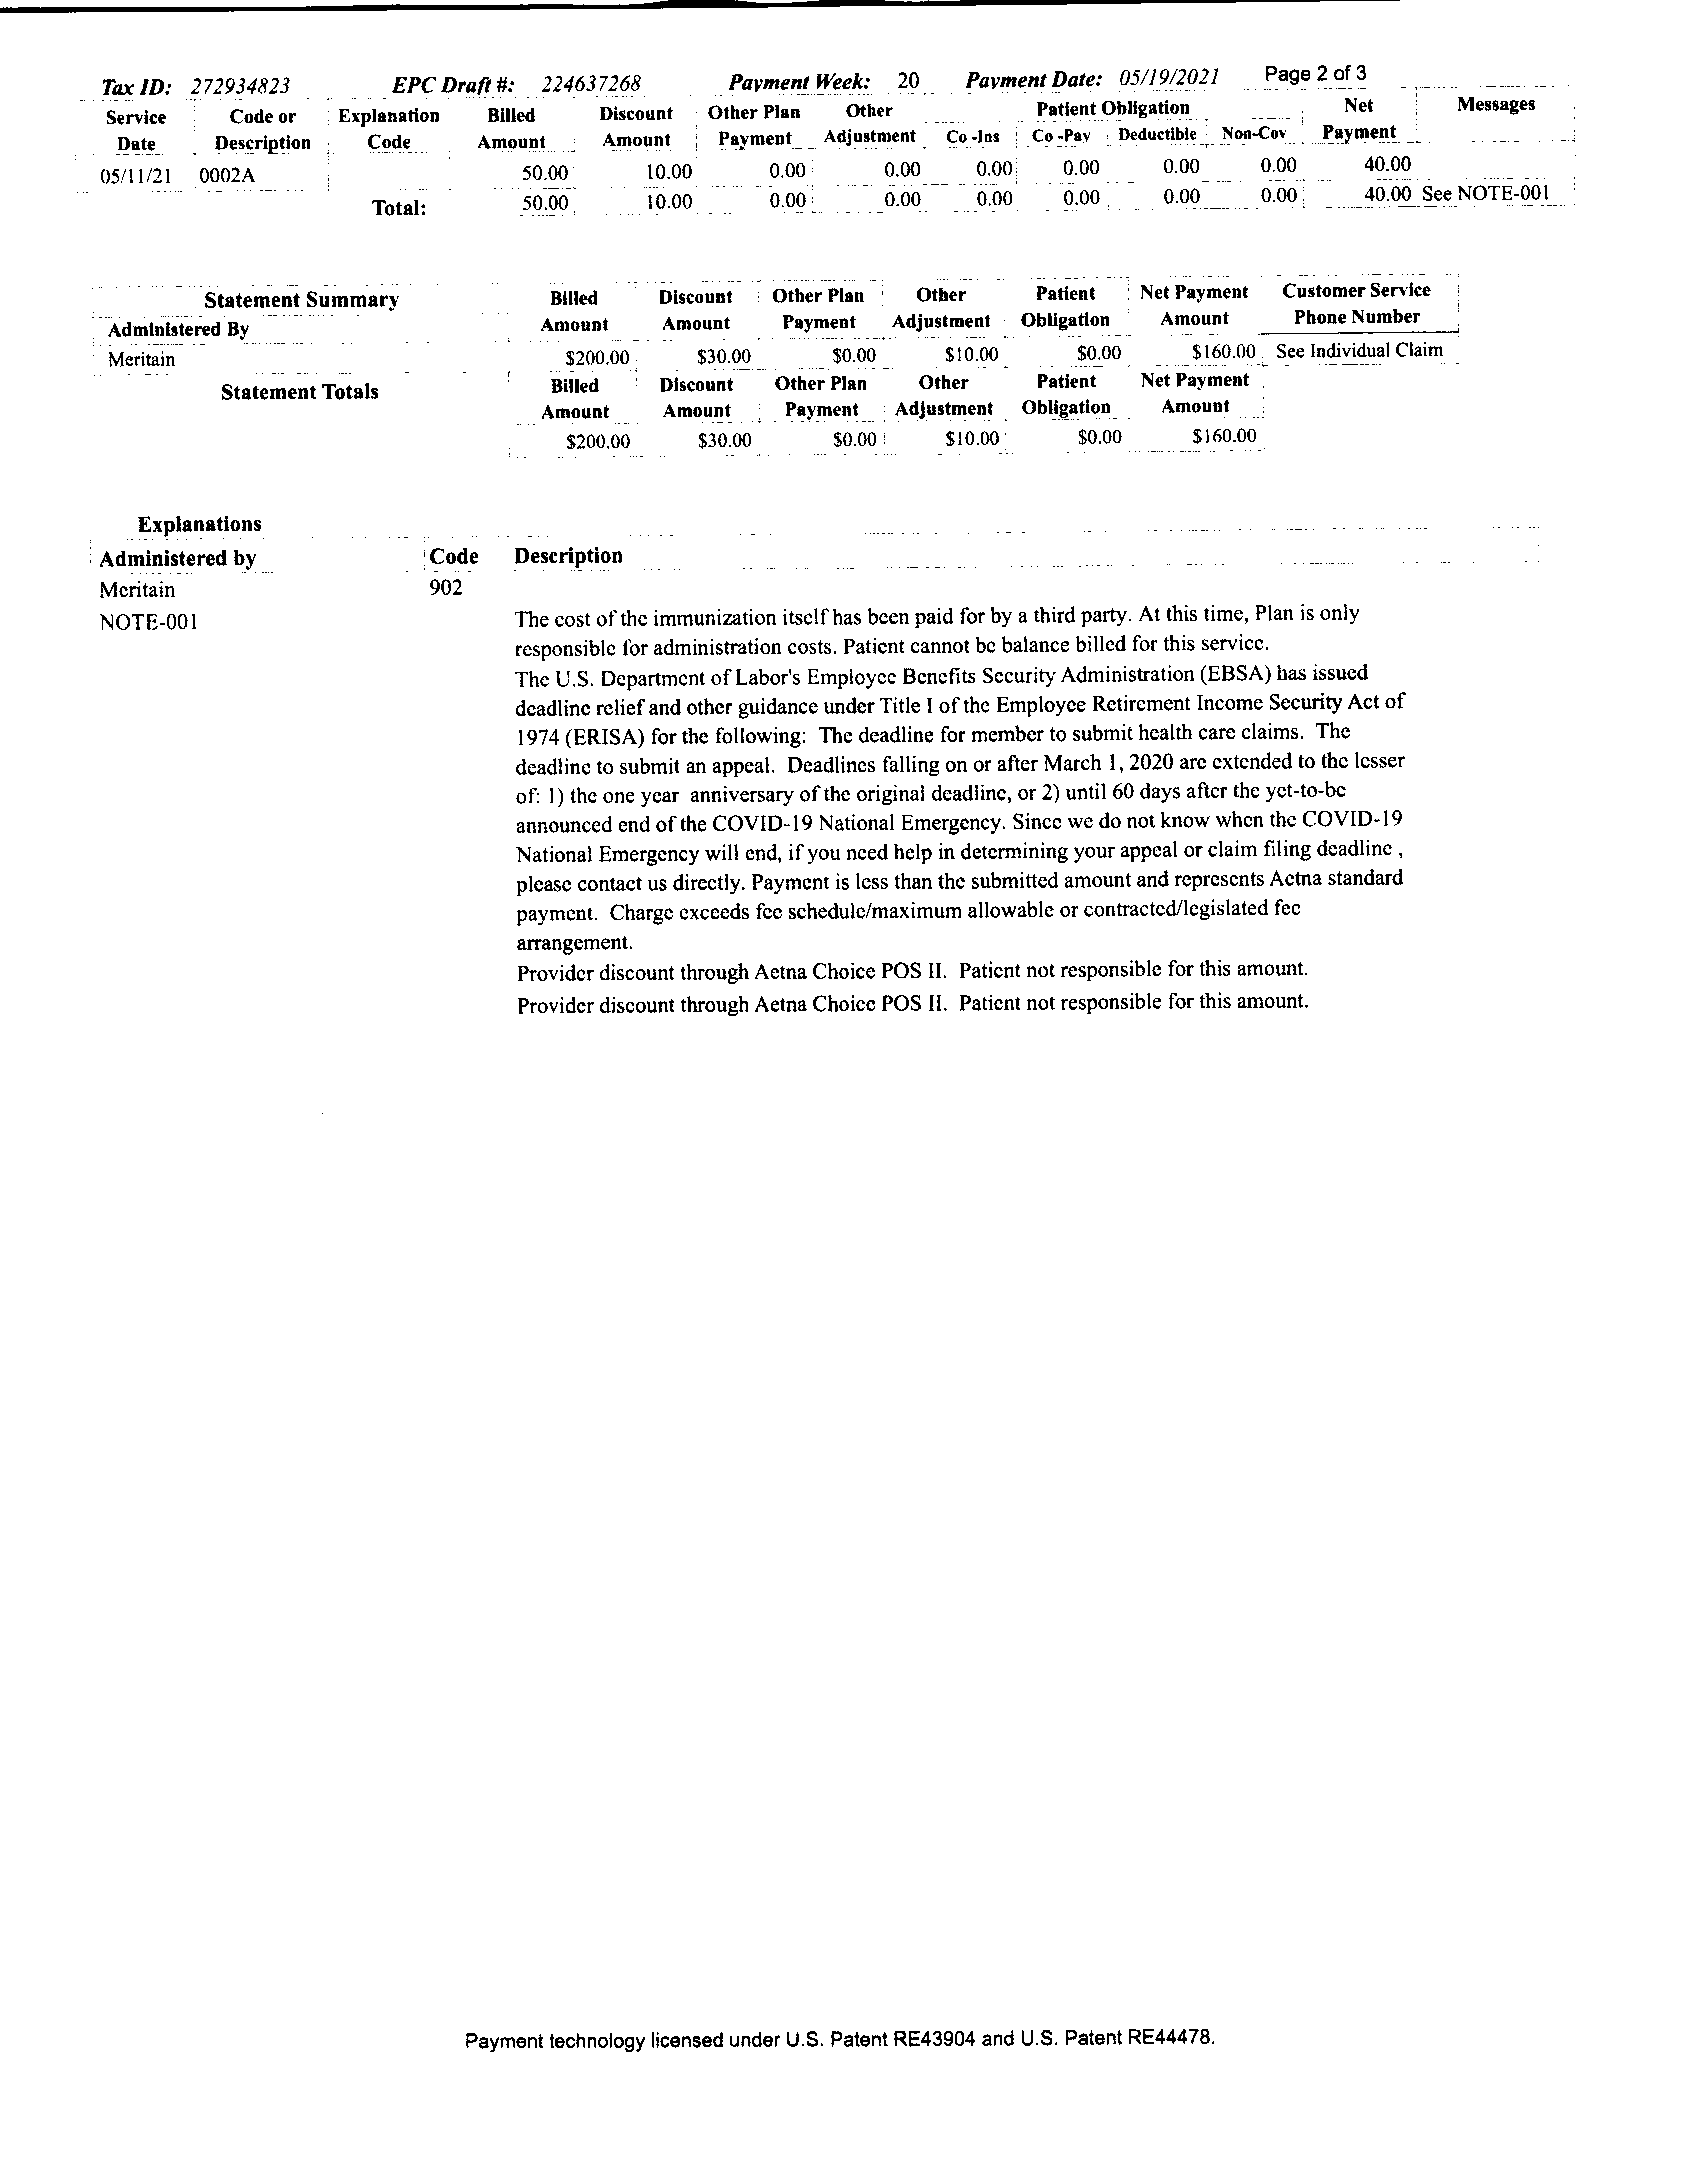table: (81, 267, 1473, 465), (69, 60, 1587, 219)
